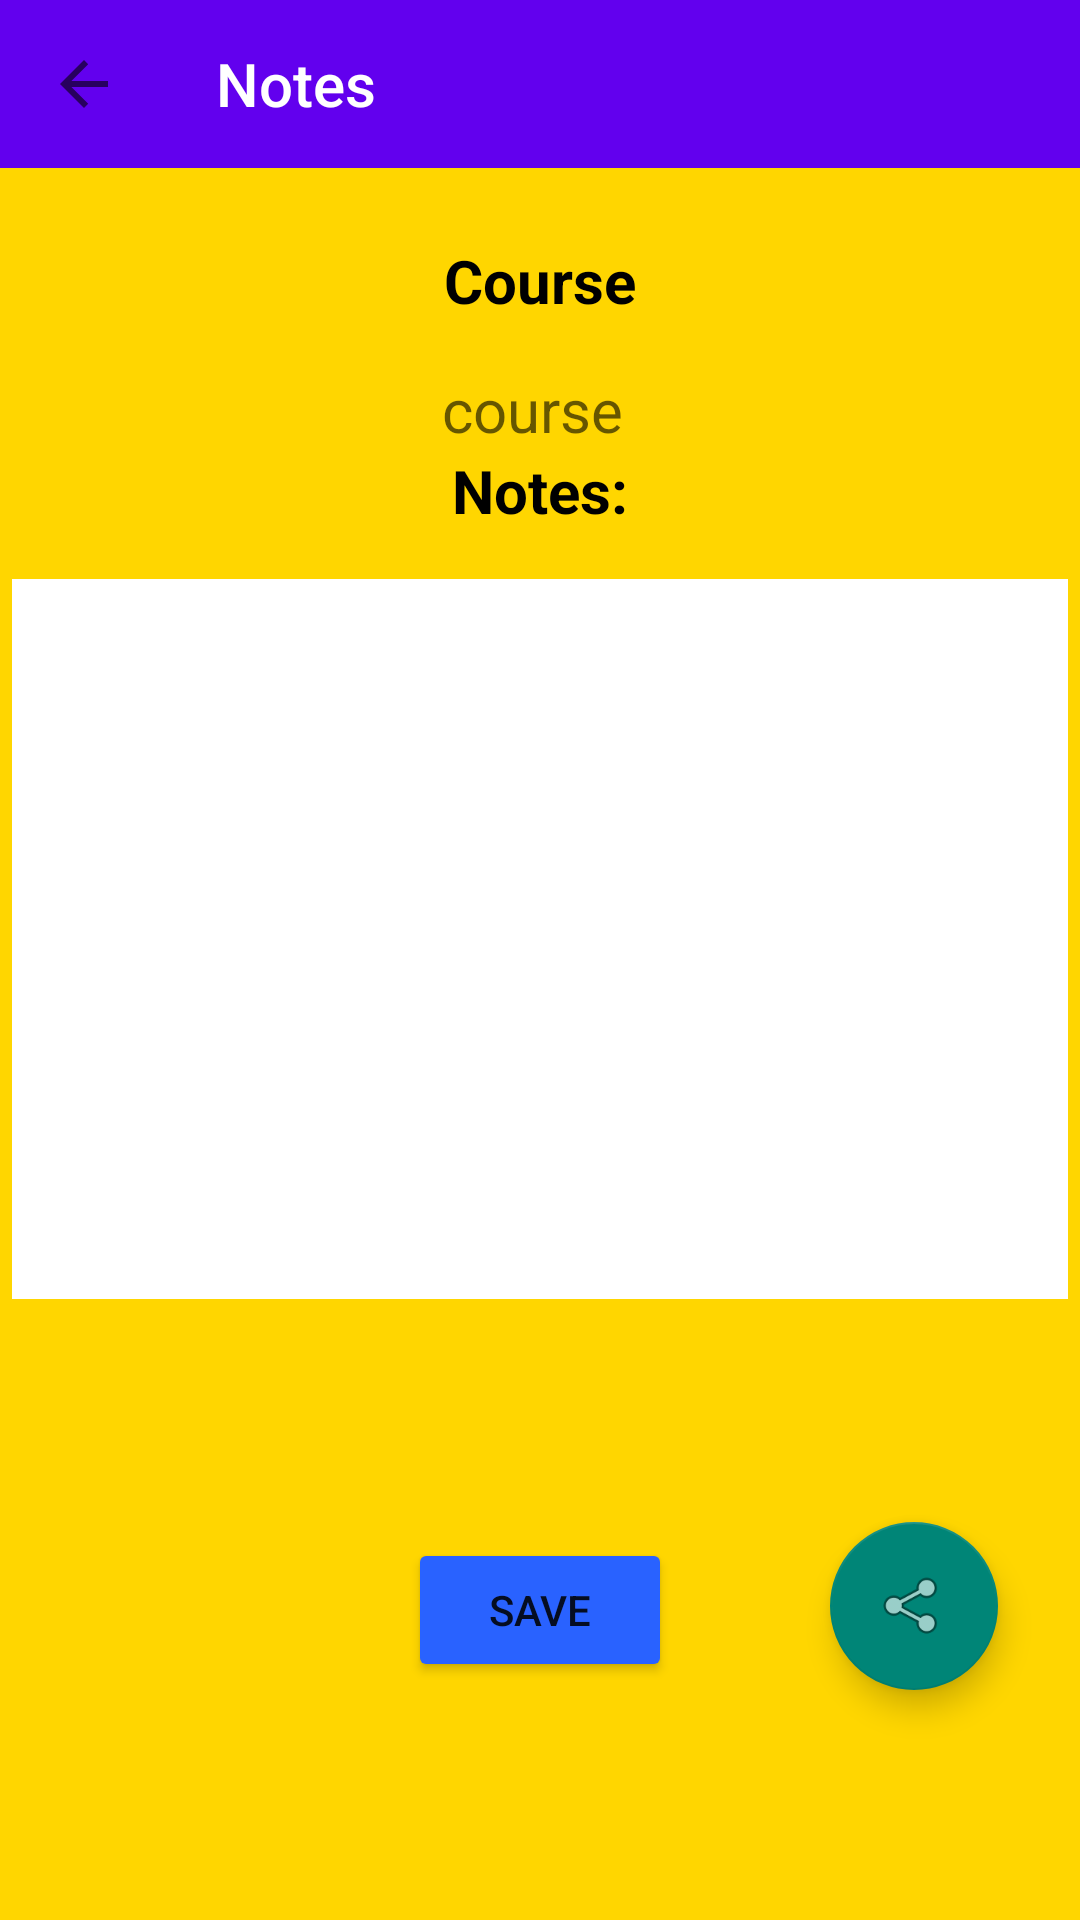

Locate icon controls on the screen. Image size 1080px x 1920px, boxes as bbox=(x1, y1, x2, y2).
share: bbox=(830, 1522, 998, 1690)
